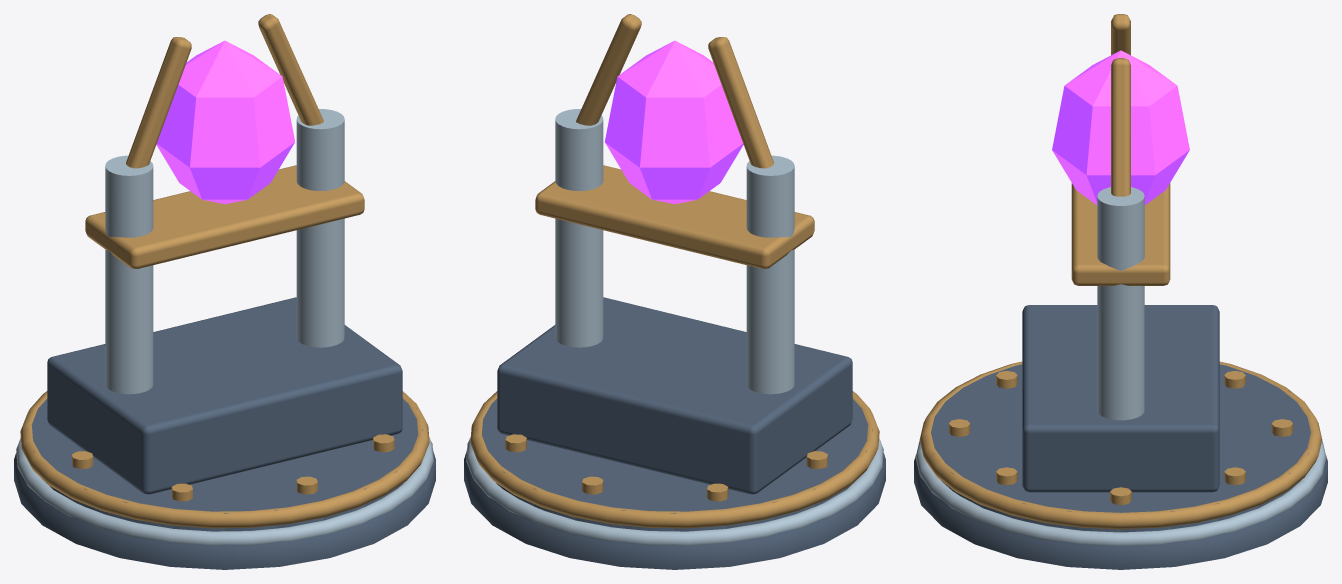
The model's file is moonsteel-convergence-relic-vault-pedestal-a4724498__18162.glb.
The picture shows the model from 3 angles, left to right: view 1: azimuth 30°, elevation 25°; view 2: azimuth 150°, elevation 25°; view 3: azimuth 270°, elevation 25°; orthographic projection.
Parts seen in each view (by area): view 1: relic-vault-pedestal; view 2: relic-vault-pedestal; view 3: relic-vault-pedestal.
Part boxes in pixels (box(x1,y1,x2,y2)): relic-vault-pedestal: box(14, 14, 435, 569); relic-vault-pedestal: box(464, 14, 885, 569); relic-vault-pedestal: box(914, 14, 1327, 569).
Size of the model in its own units: 2.1 by 2.49 by 2.1.
